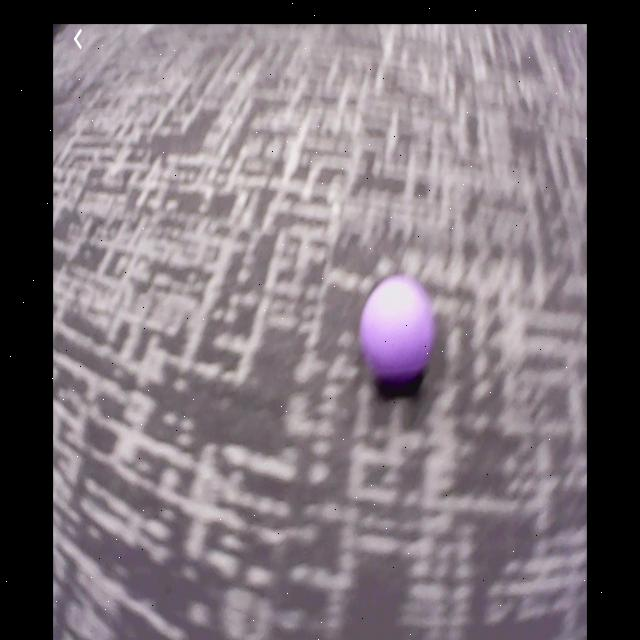ball: (361, 274, 431, 385)
